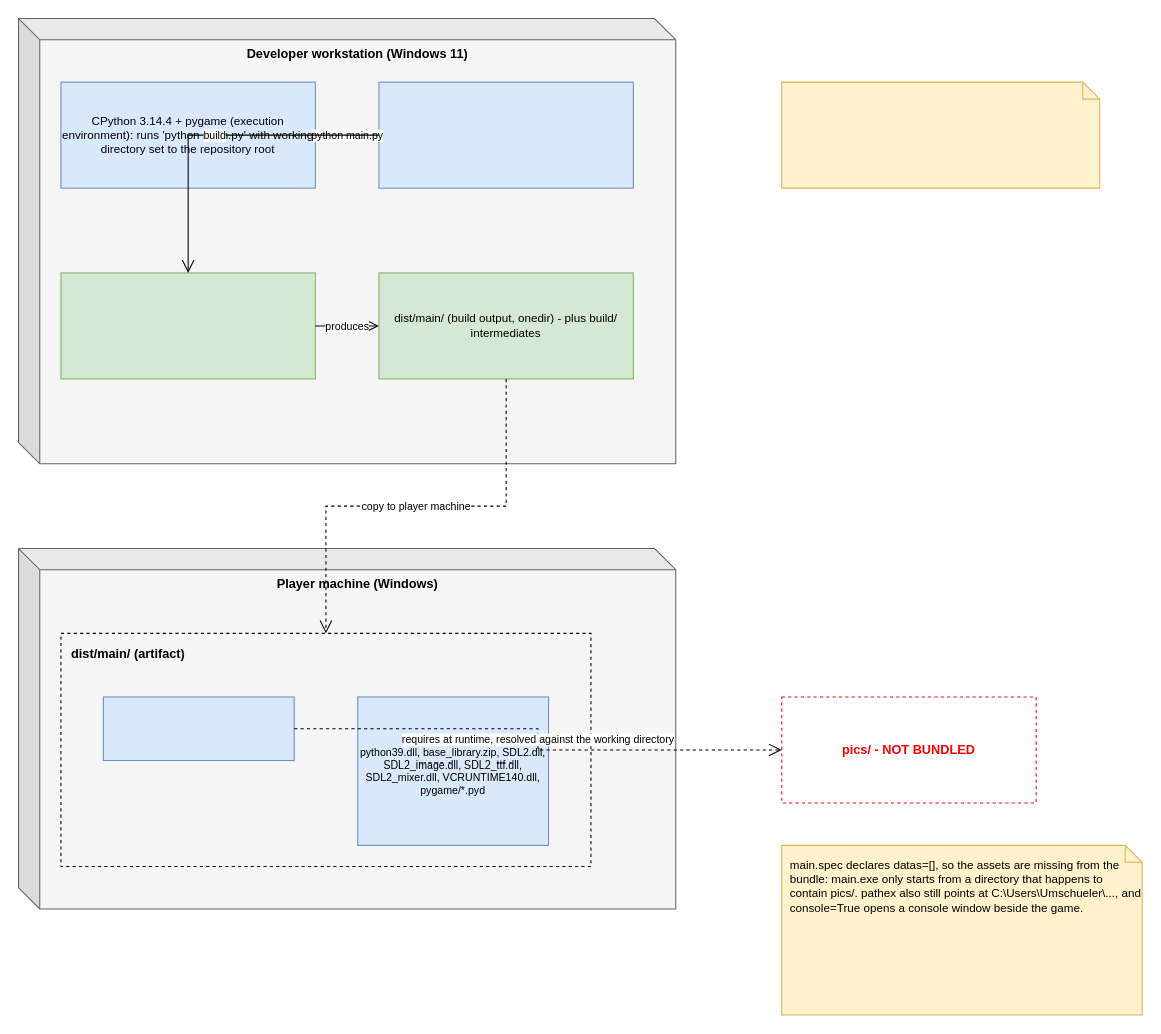
Image size: 1161x1034. Some labels were removed from this diagram. The centre of each missing label's shape, as x and y in pixels:
"Built against CPython 3.9; the developer's current interpreter is 3.14.4." goes at point 940,134.
"main.exe" goes at point 198,728.
"PyInstaller (build tool): driven by main.spec" goes at point 187,325.
"Repository (artifact): main.py, module/, pics/, main.spec" goes at point 505,134.
